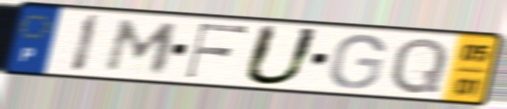F: (182, 22, 252, 81)
G: (326, 33, 388, 91)
I: (67, 12, 104, 76)
M: (101, 17, 184, 75)
Q: (387, 35, 451, 96)
U: (239, 23, 325, 88)
